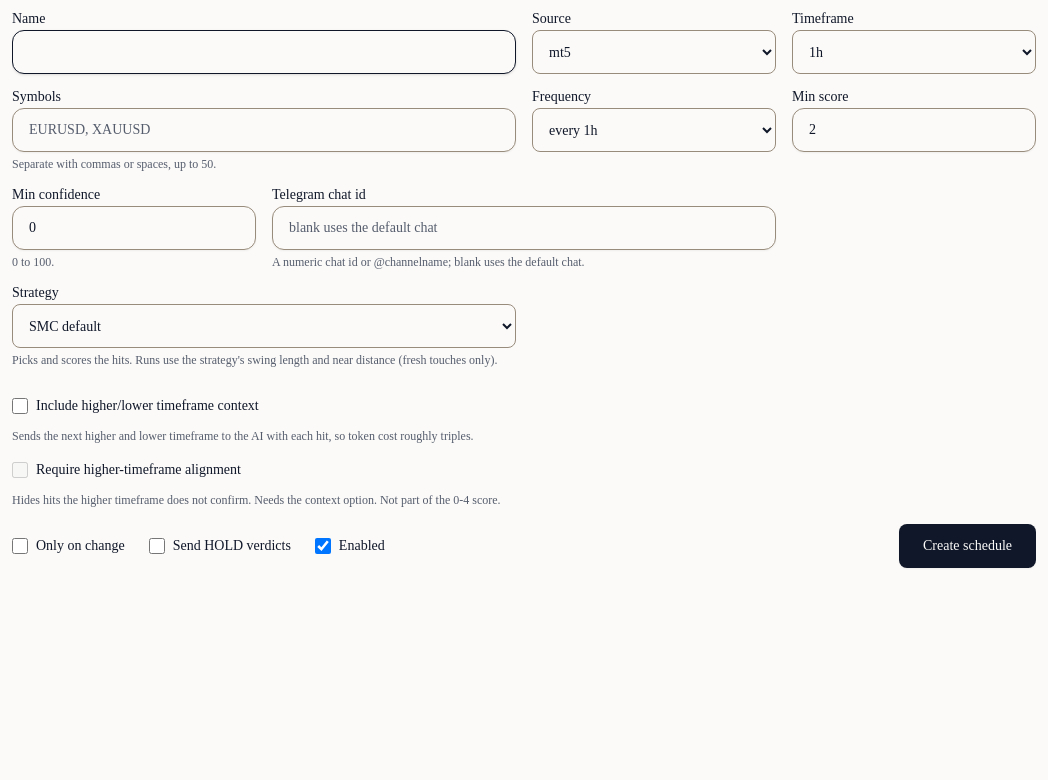
ScheduleForm strategy › defaults a new schedule to smc-default and shows the MTF hint when picked
The width and height of the screenshot is (1048, 780).
Select "HTF aligned touch" in the dropdown labelled "Strategy": (264, 326) [12,304,516,348]
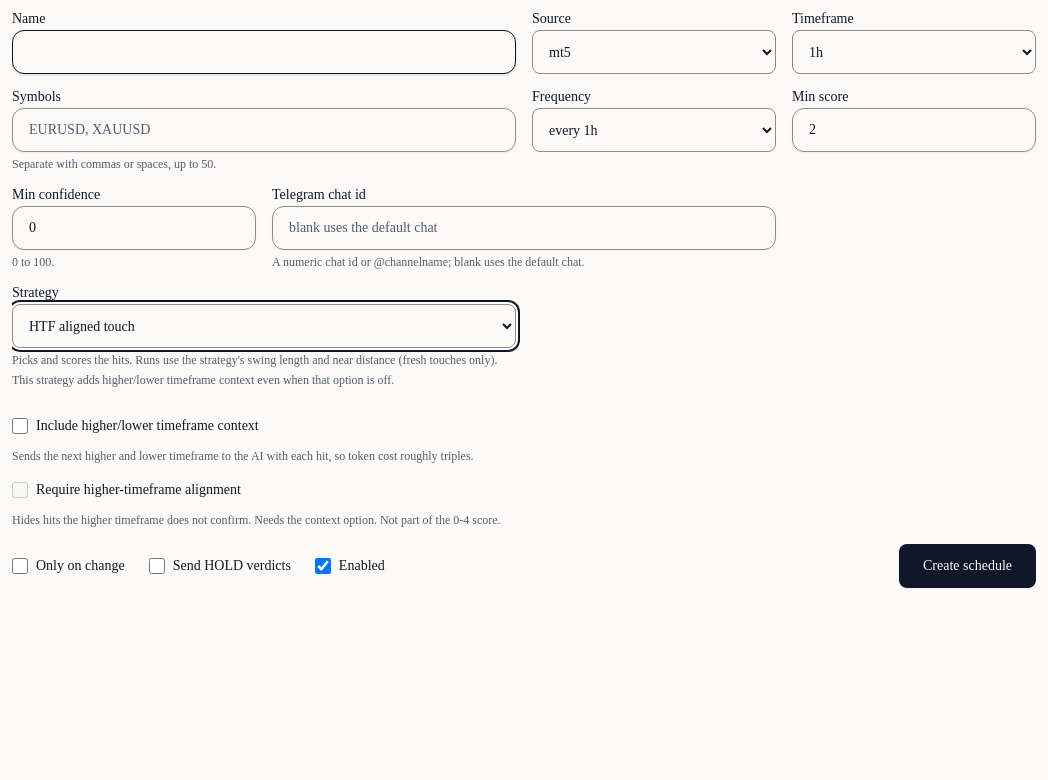
Check: the text "This strategy adds higher/lower timeframe context even when that option is off." is shown, box [12,373,394,387]
